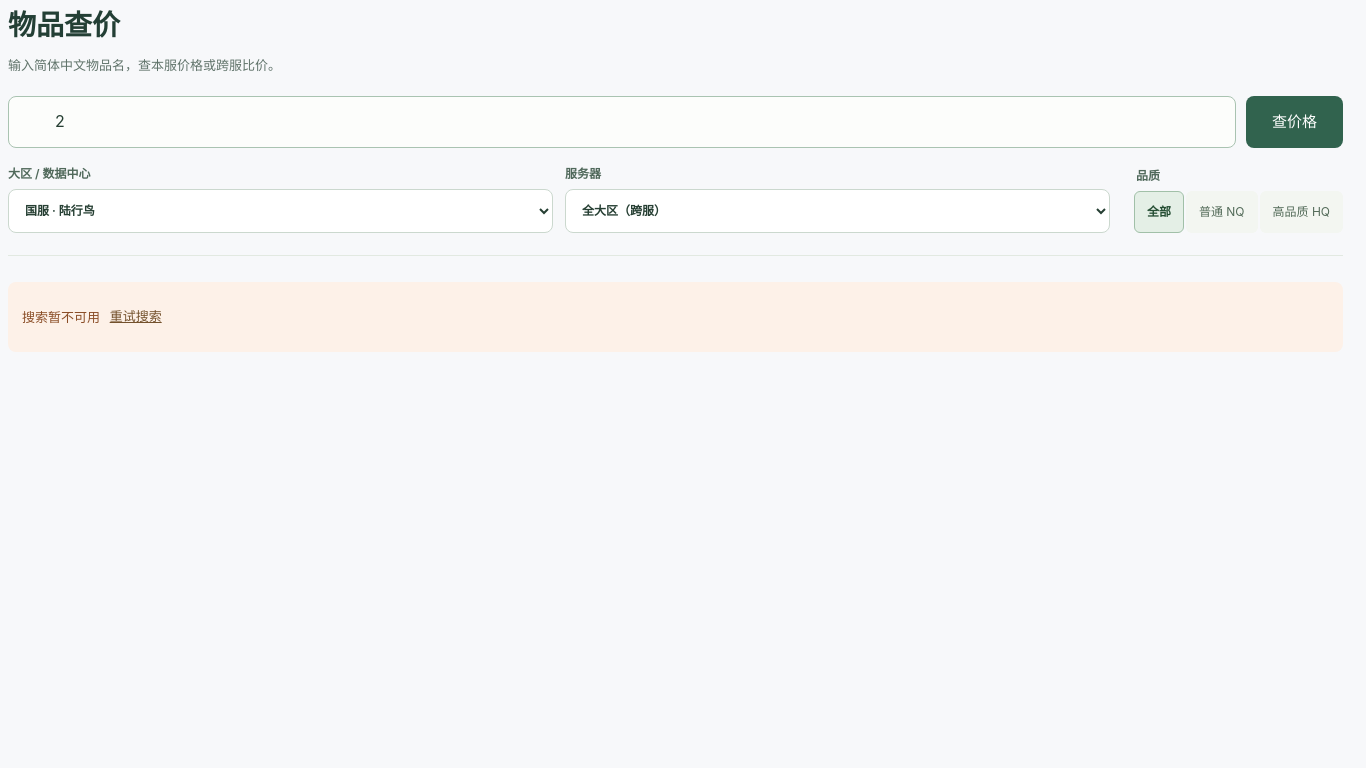
Scenario: keeps empty prices distinct from zero and lets a failed search retry
Expected: the message "搜索暂不可用 重试搜索" is shown, [8,282,1343,352]
Click the button "重试搜索" at {"x": 136, "y": 317}, box [104,296,168,338]
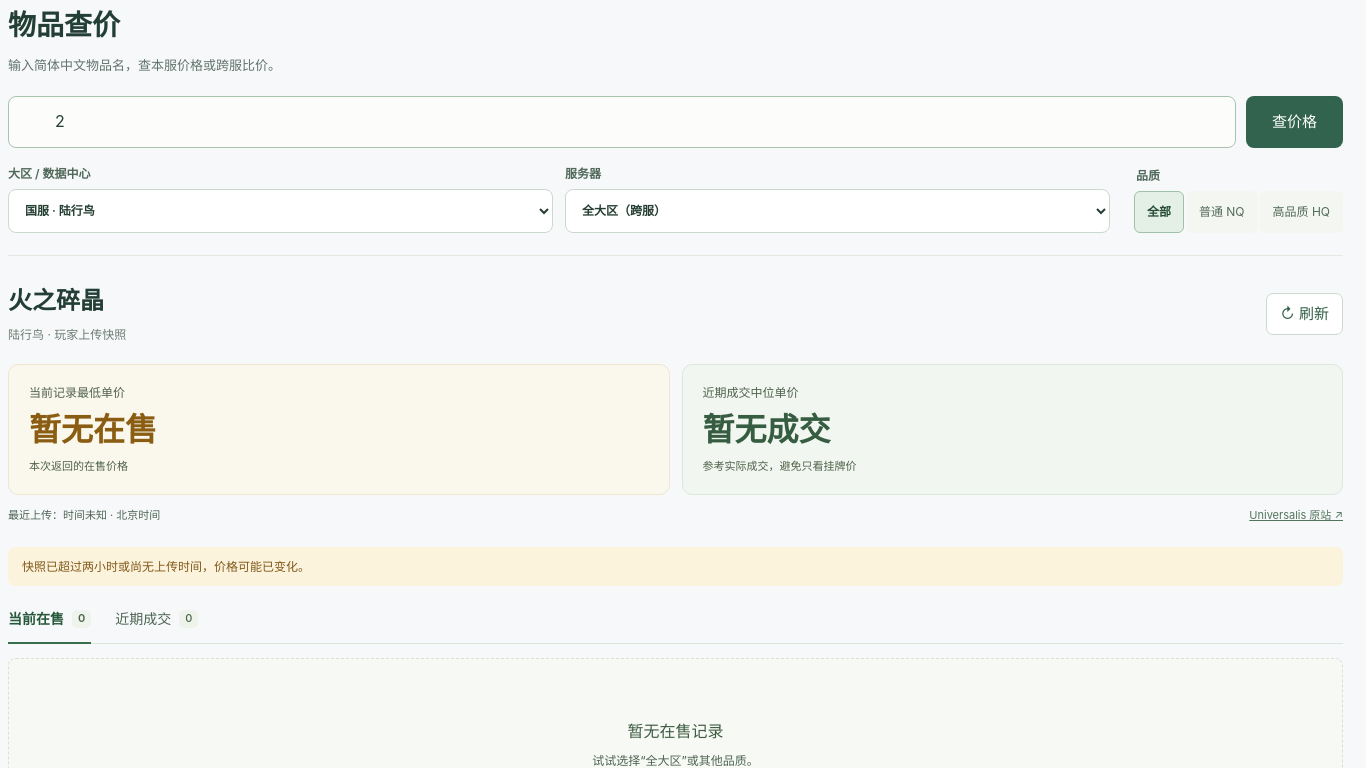
Now the text "暂无在售" is shown, box [29,410,157,449]
Now the text "暂无成交" is shown, box [702,410,830,449]
Now the text "快照已超过两小时或尚无上传时间，价格可能已变化。" is shown, box [8,546,1343,586]
